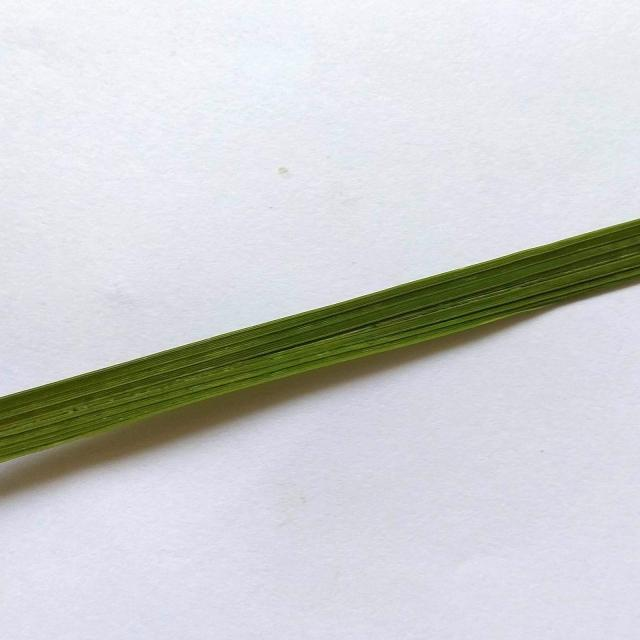healthy: (0, 201, 640, 517)
